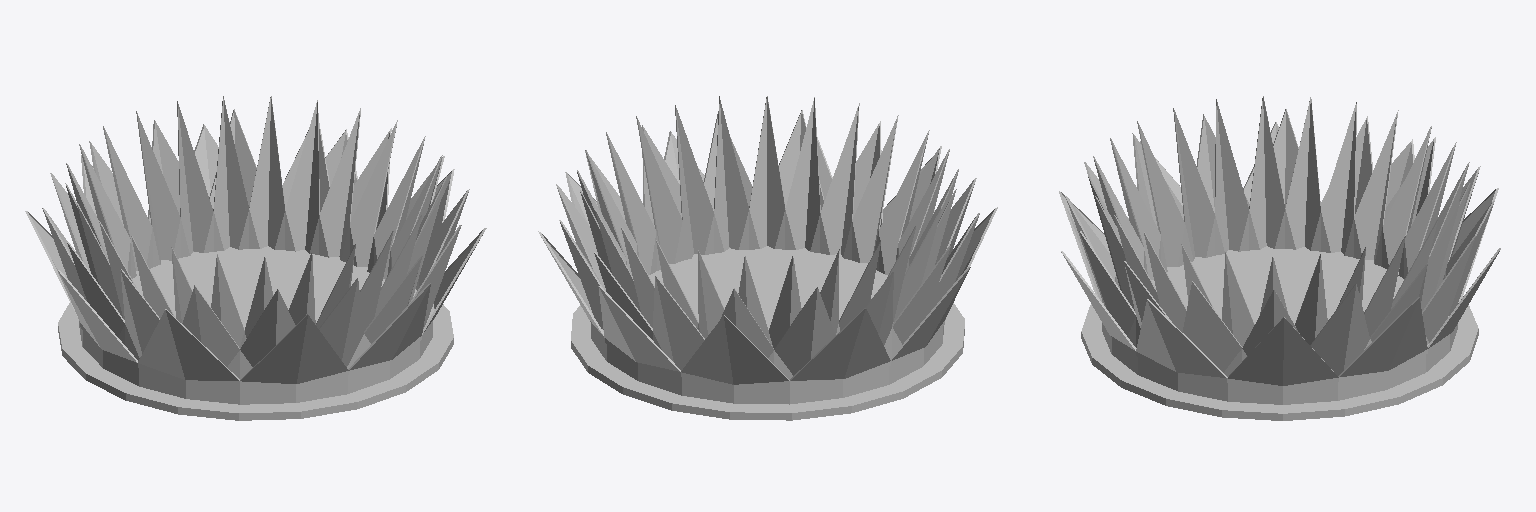
The model's file is portal_000006.obj.
The picture shows the model from 3 angles: view 1: azimuth 30°, elevation 25°; view 2: azimuth 150°, elevation 25°; view 3: azimuth 270°, elevation 25°; orthographic projection.
Parts seen in each view (by area): view 1: Cylinder.001, pCylinder1, Cylinder; view 2: Cylinder.001, pCylinder1, Cylinder; view 3: Cylinder.001, pCylinder1, Cylinder.
Boxes of the visible parts, x1=… form: Cylinder.001: x1=65, y1=96, x2=447, y2=348; pCylinder1: x1=25, y1=124, x2=486, y2=420; Cylinder: x1=42, y1=109, x2=469, y2=379; Cylinder.001: x1=577, y1=96, x2=958, y2=348; pCylinder1: x1=538, y1=131, x2=997, y2=420; Cylinder: x1=556, y1=110, x2=979, y2=379; Cylinder.001: x1=1088, y1=96, x2=1470, y2=346; pCylinder1: x1=1059, y1=122, x2=1500, y2=420; Cylinder: x1=1065, y1=109, x2=1494, y2=376.
Bounding box in the file's own units: 7.45 × 2.9 × 7.12.